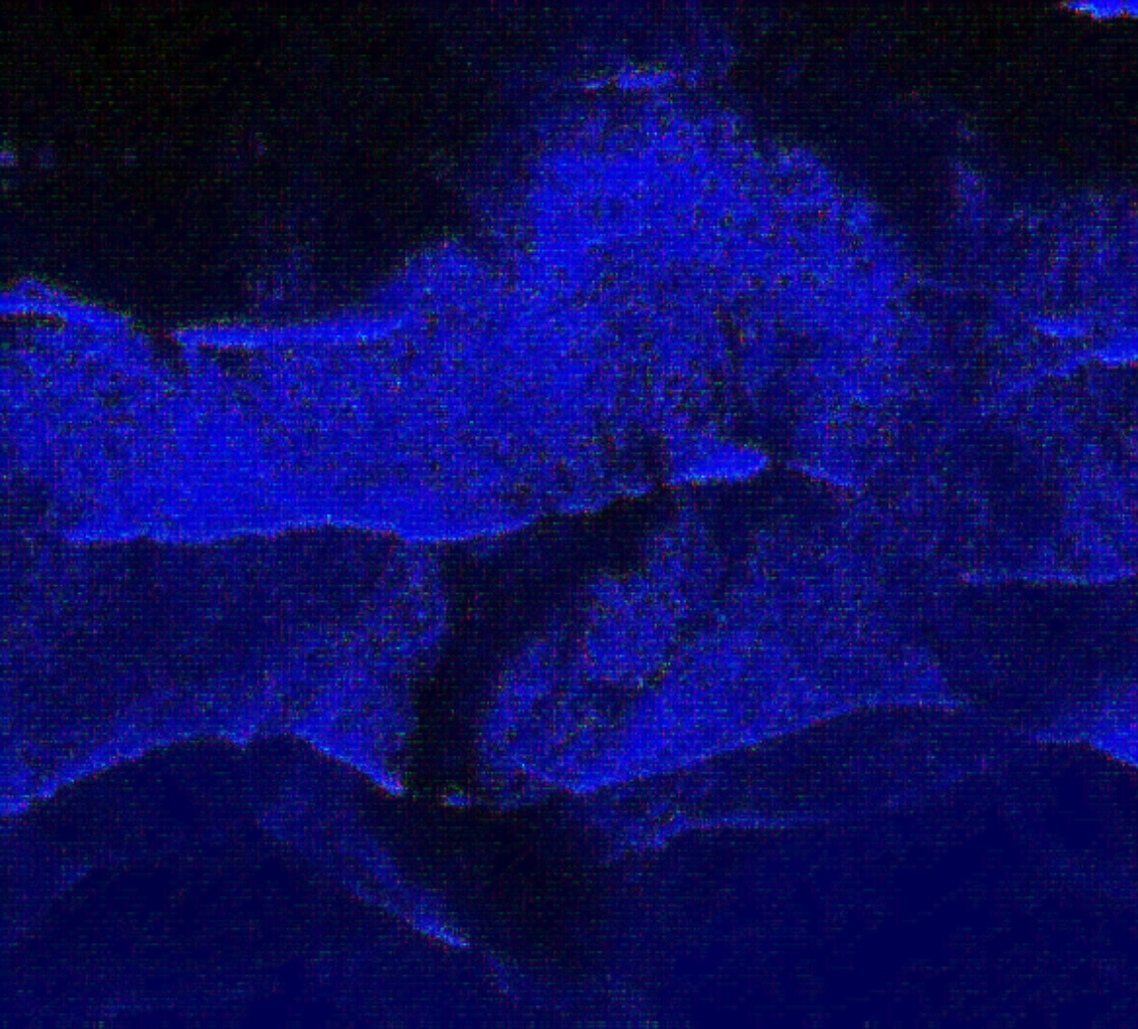rip_current: (341, 272, 721, 907)
